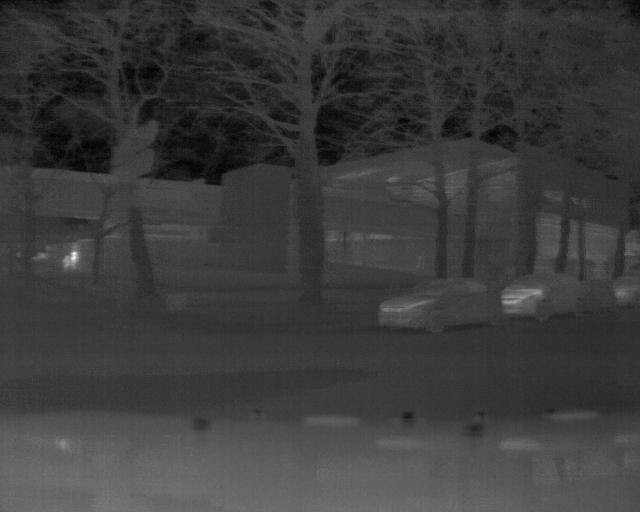car: (379, 278, 508, 334), (497, 268, 594, 322)
